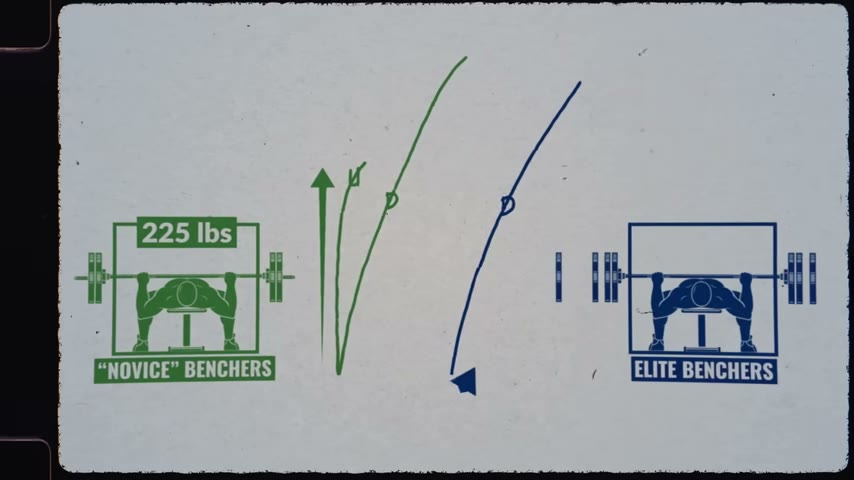barbell_plate_side: (498, 70, 577, 393)
